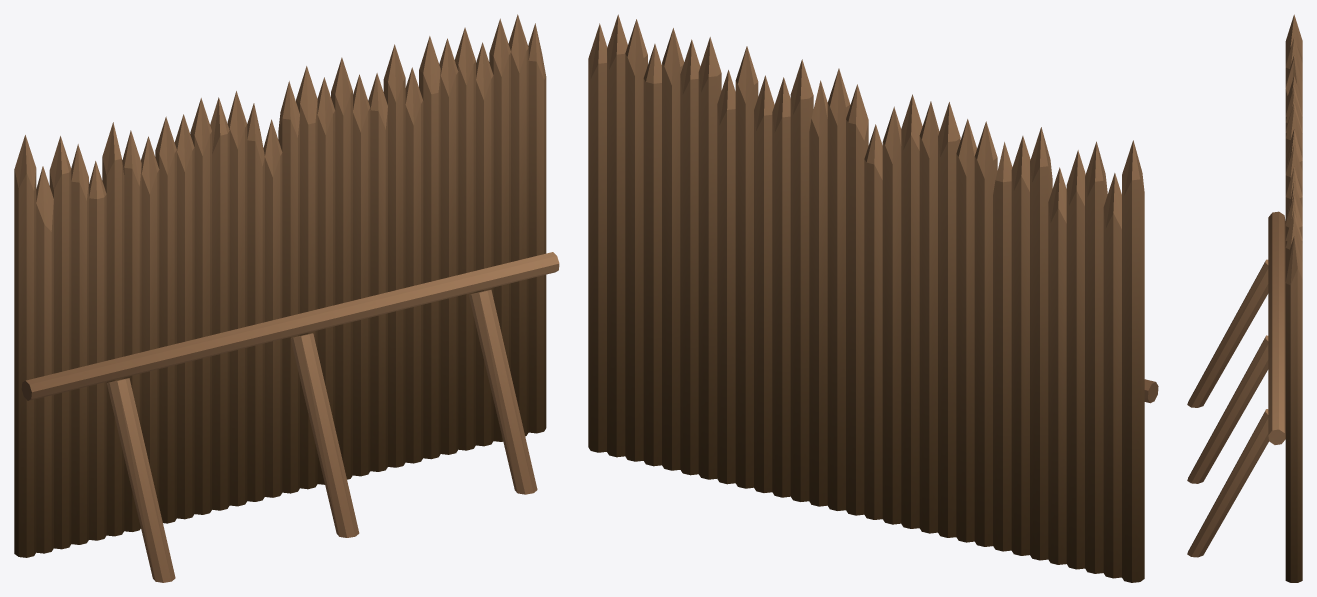
Rendered from ZLP_Build_D_1.FBX.
The picture shows the model from 3 angles, left to right: view 1: azimuth 30°, elevation 25°; view 2: azimuth 150°, elevation 25°; view 3: azimuth 270°, elevation 25°; orthographic projection. The views are drawn at different scales.
Visible parts, largest first — view 1: ZLP_Build_D_1; view 2: ZLP_Build_D_1; view 3: ZLP_Build_D_1.
Part boxes in pixels (x1=…): ZLP_Build_D_1: x1=14, y1=14, x2=559, y2=582; ZLP_Build_D_1: x1=588, y1=14, x2=1158, y2=582; ZLP_Build_D_1: x1=1187, y1=14, x2=1302, y2=582.
Bounding box in the file's own units: 766 × 585 × 172.
